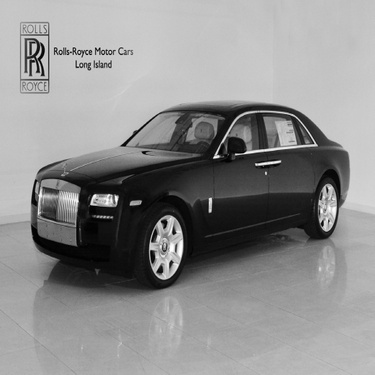car: (5, 99, 351, 276)
